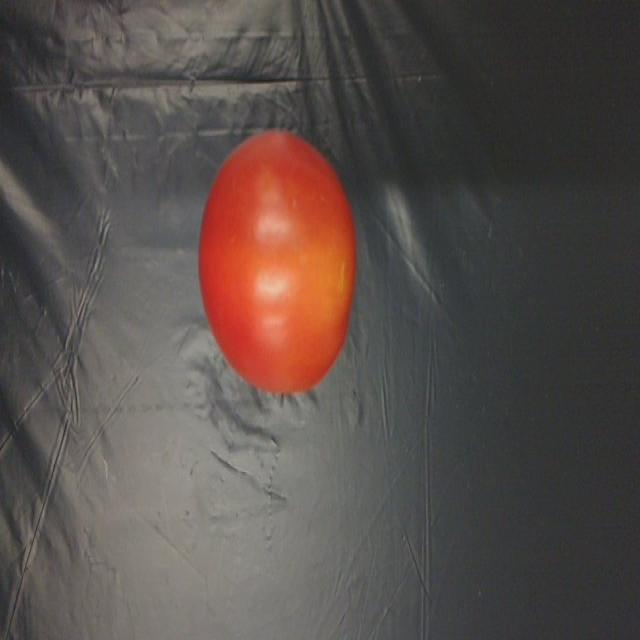sari: (255, 198, 352, 362)
